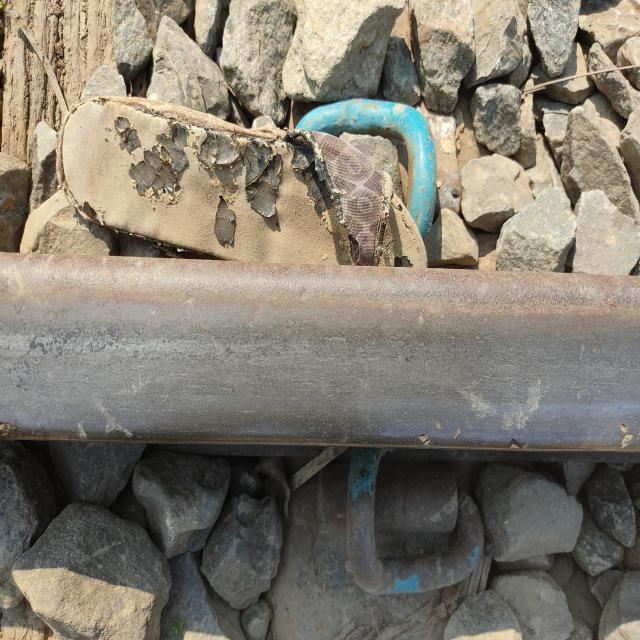squats_high: (418, 422, 461, 448), (617, 419, 633, 451), (507, 437, 524, 453)
